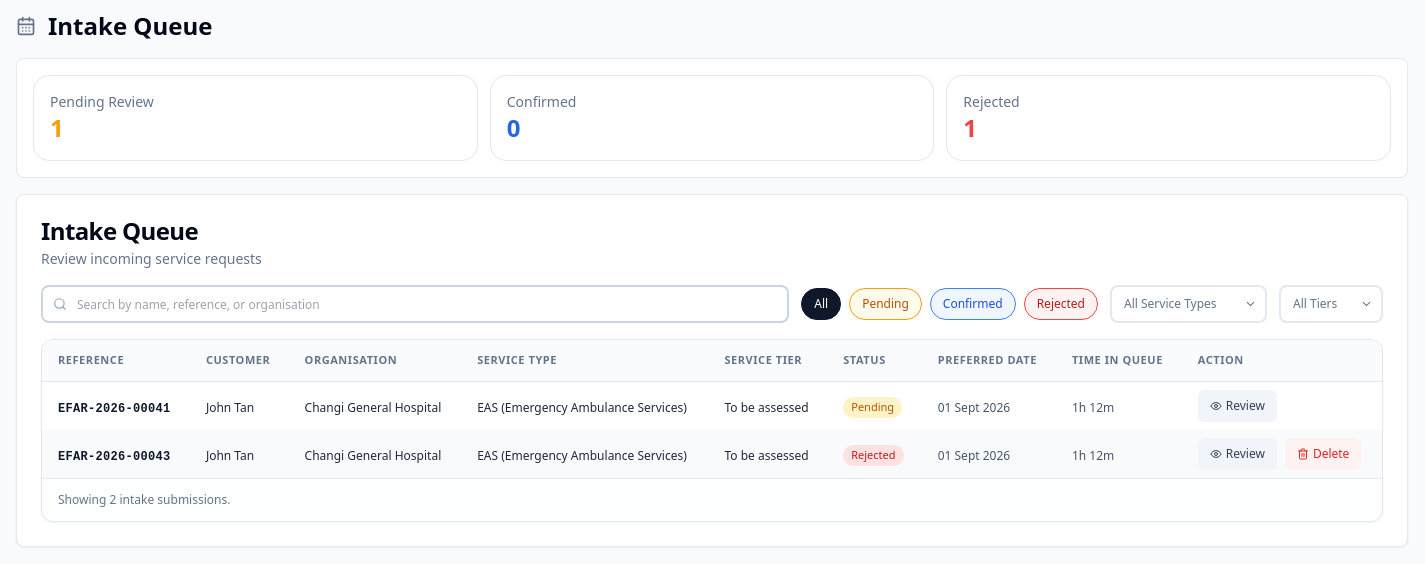
Scenario: IntakeQueuePage - search and filtering › the Rejected filter pill hides pending/confirmed rows
The image size is (1425, 564).
Expected: the text "EFAR-2026-00041" is shown, [58,402,170,416]
Click the button "Rejected": (1061, 304) [1024,288,1098,320]
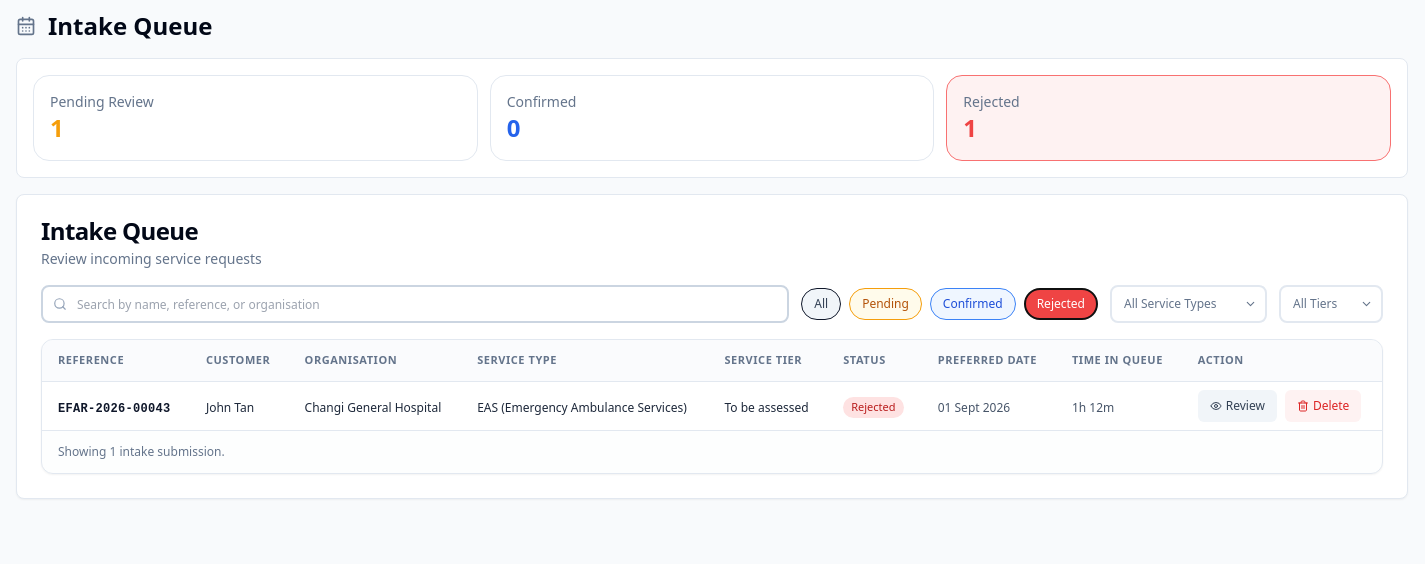
Expected: the text "EFAR-2026-00043" is shown, [58,402,170,416]
Now the text "EFAR-2026-00041" is gone
